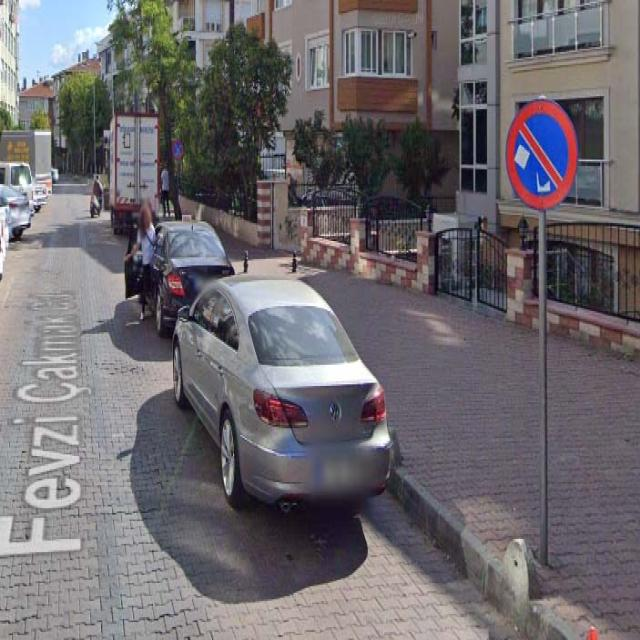parkyasak: (504, 99, 578, 210)
